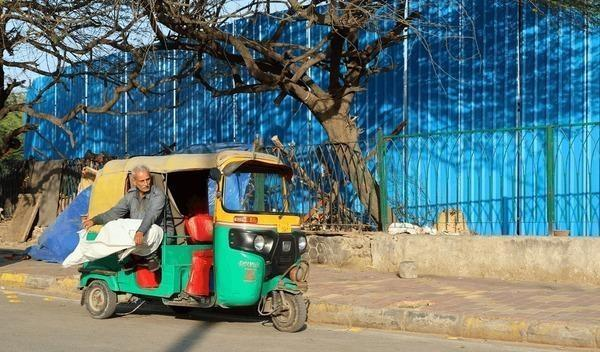keke: (88, 147, 314, 331)
